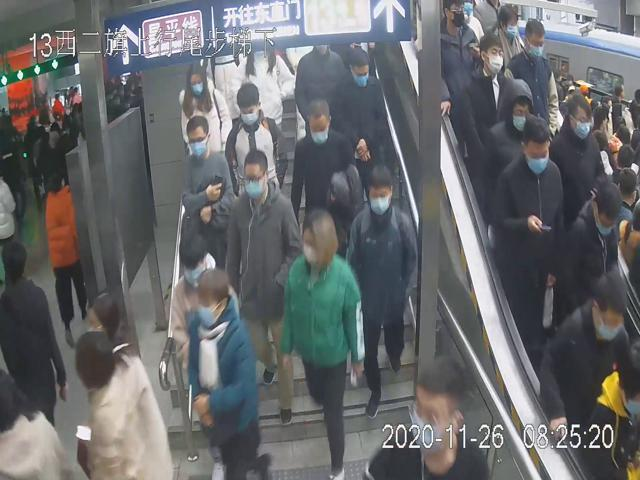person: (279, 202, 369, 479), (345, 167, 422, 420), (229, 153, 299, 429), (493, 111, 566, 332), (287, 95, 364, 238), (178, 110, 238, 269), (332, 43, 390, 179), (224, 81, 289, 190), (177, 51, 232, 164), (462, 35, 511, 153)
